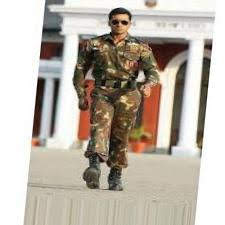uniform: (77, 31, 158, 185)
